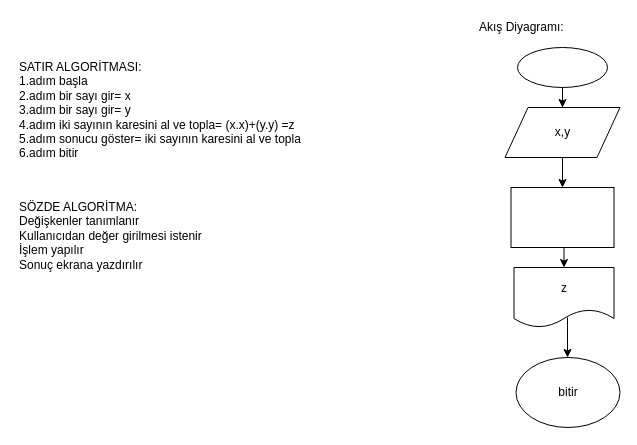
This 637x445 diagram has some shape labels left out. Each missing label, with the centre of its shape:
"Başla" goes at pixel 562 67.
"x.x+y.y=z" goes at pixel 562 217.
